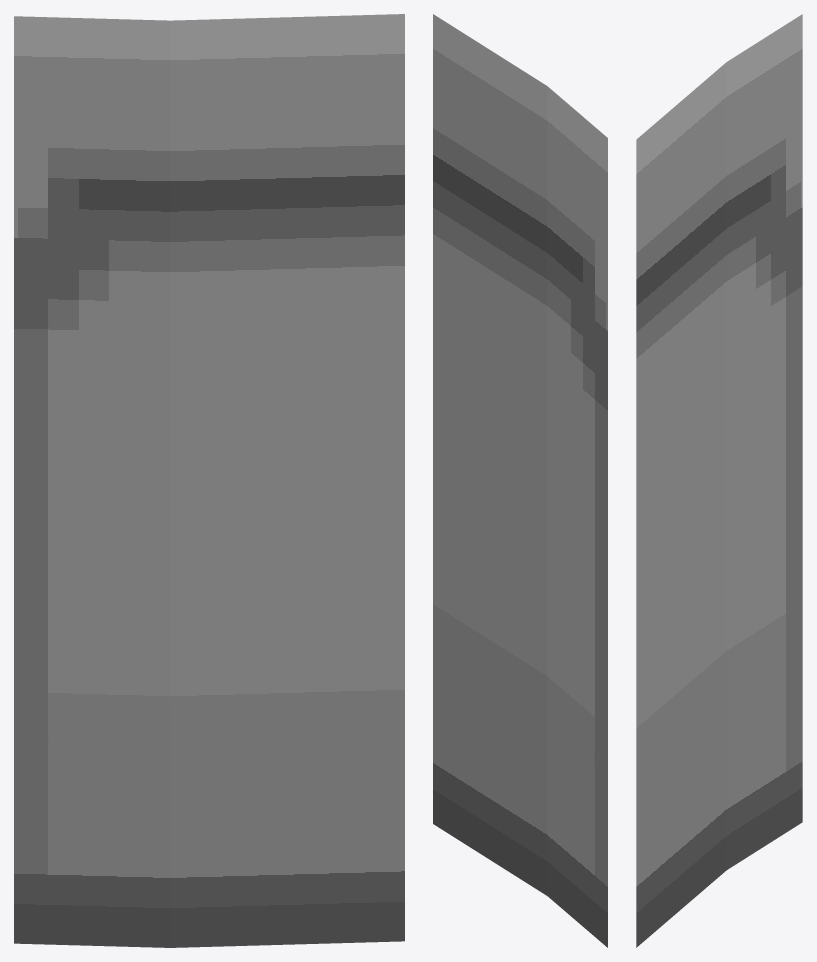
3 renders of one model, left to right at view 1: azimuth 30°, elevation 25°; view 2: azimuth 150°, elevation 25°; view 3: azimuth 270°, elevation 25°, orthographic. The views are drawn at different scales.
Size of the model in its own units: 1 by 3 by 0.5593.
1 material, 1 textured.
